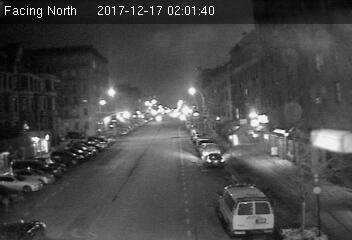car: (203, 153, 226, 169)
police: (215, 179, 279, 236)
